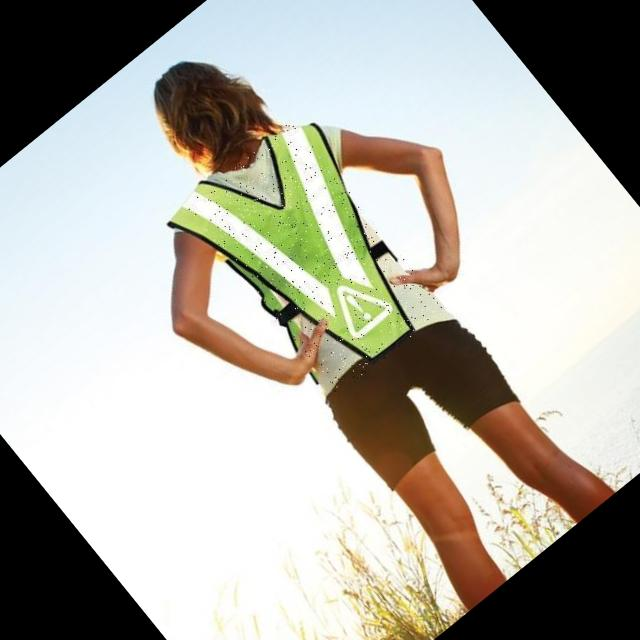safety_vest: (184, 118, 446, 396)
